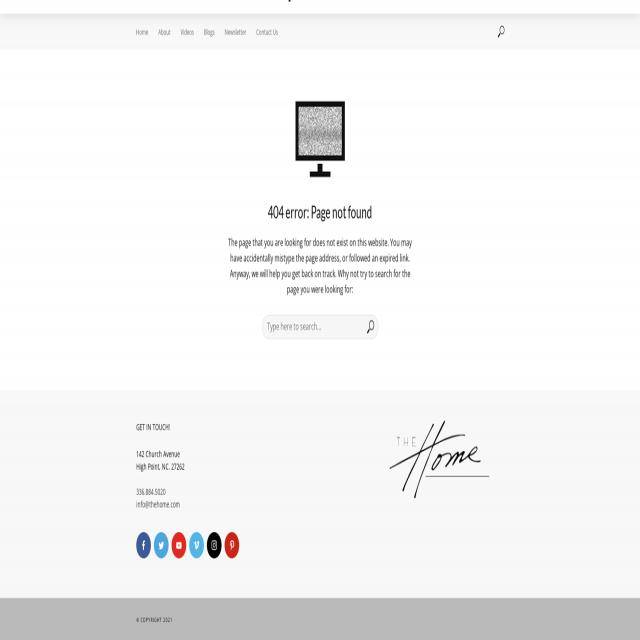button: (389, 420, 489, 499), (295, 101, 345, 177), (362, 315, 378, 340)
field: (262, 315, 378, 339)
